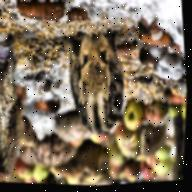boar: (46, 26, 150, 141)
